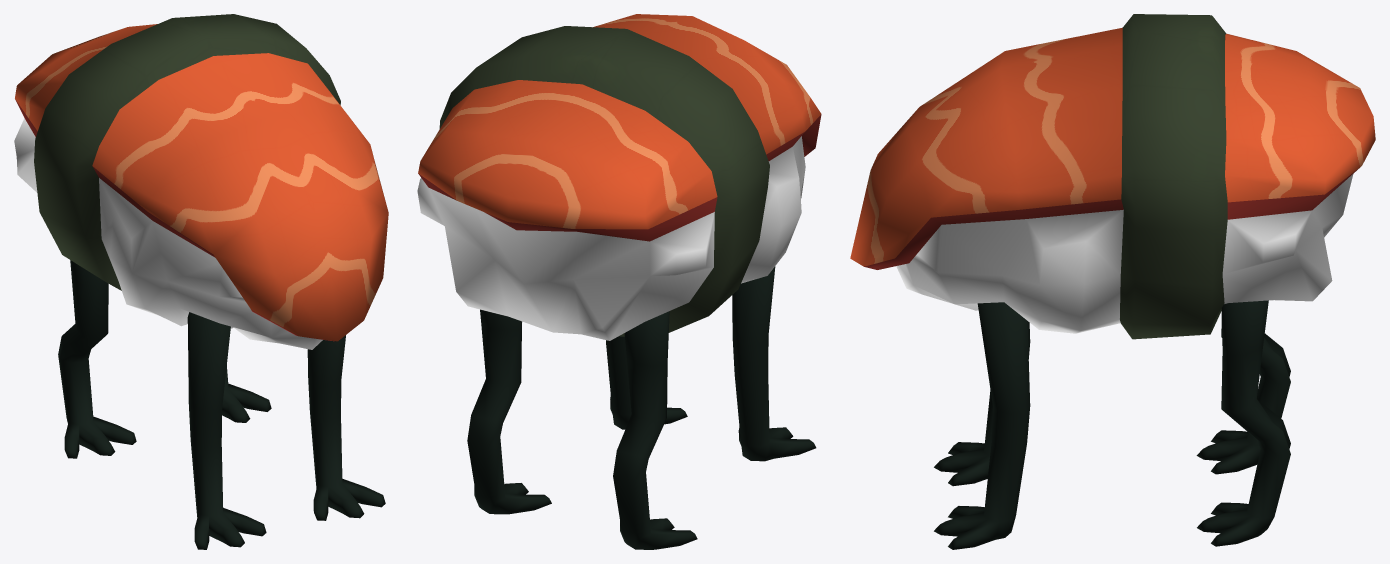
Rendered from AF_novelteeth_foodcritters.fbx.
The picture shows the model from 3 angles, left to right: view 1: azimuth 30°, elevation 25°; view 2: azimuth 150°, elevation 25°; view 3: azimuth 270°, elevation 25°; orthographic projection. The views are drawn at different scales.
Visible parts, largest first — view 1: sushi, LegFR.001, LEGBR, LEGFL.001, LEGBL; view 2: sushi, LEGBR, LEGBL, LegFR.001, LEGFL.001; view 3: sushi, LEGFL.001, LEGBL, LEGBR, LegFR.001.
Boxes of the visible parts, box(x1,y1,x2,y2) form: sushi: box(14, 14, 388, 349); LegFR.001: box(187, 312, 266, 549); LEGBR: box(58, 260, 136, 458); LEGFL.001: box(307, 335, 385, 520); LEGBL: box(222, 365, 271, 422); sushi: box(417, 14, 821, 340); LEGBR: box(613, 311, 697, 549); LEGBL: box(467, 309, 551, 514); LegFR.001: box(732, 266, 816, 461); LEGFL.001: box(606, 336, 687, 429); sushi: box(850, 14, 1375, 339); LEGFL.001: box(934, 302, 1030, 549); LEGBL: box(1197, 300, 1290, 546); LEGBR: box(1196, 319, 1290, 474); LegFR.001: box(934, 321, 1030, 486).
Size of the model in its own units: 188 by 278 by 283.
2 materials, 1 textured.
